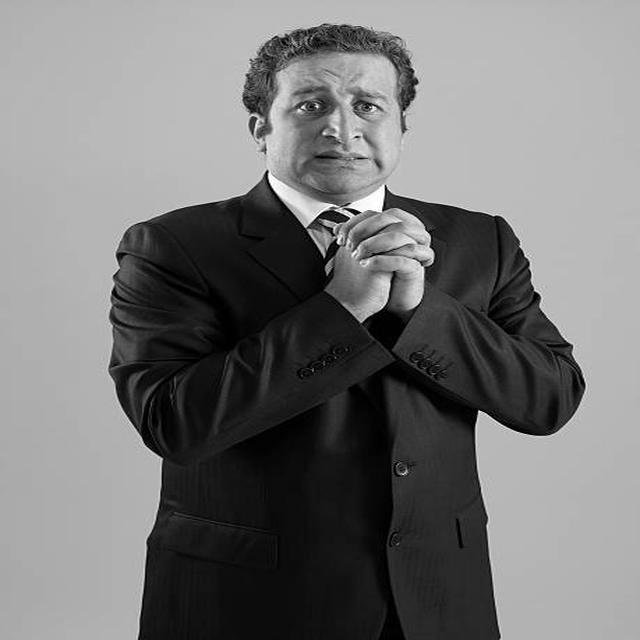Fear: (269, 52, 403, 195)
